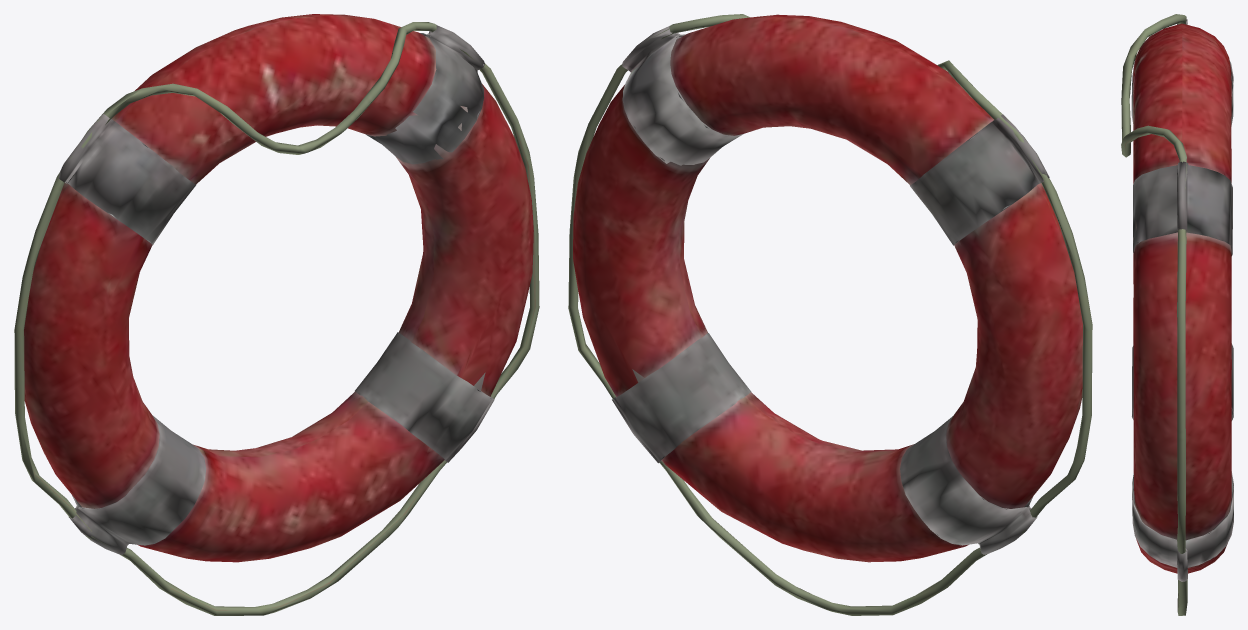
The model's file is lifebuoy.glb.
3 renders of one model, left to right at view 1: azimuth 30°, elevation 25°; view 2: azimuth 150°, elevation 25°; view 3: azimuth 270°, elevation 25°, orthographic. The views are drawn at different scales.
Parts seen in each view (by area): view 1: lifebuoy; view 2: lifebuoy; view 3: lifebuoy.
Part boxes in pixels (box(x1,y1,x2,y2)): lifebuoy: box(14, 14, 539, 615); lifebuoy: box(568, 14, 1092, 615); lifebuoy: box(1121, 14, 1233, 615).
Size of the model in its own units: 0.7829 by 0.8416 by 0.155.
1 material, 1 textured.
